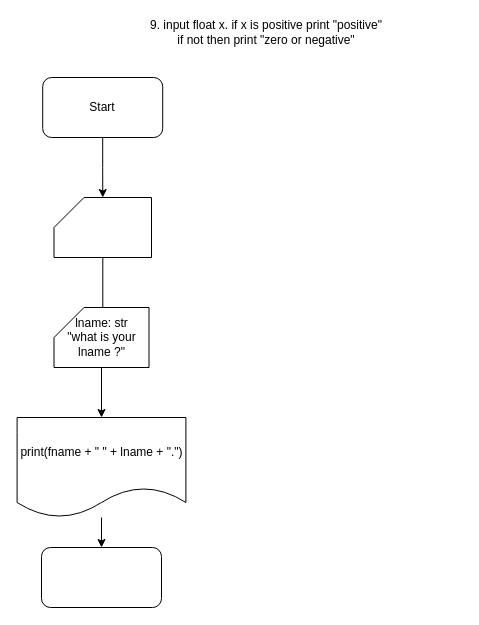
The diagram is 479 pixels wide and 625 high, and some of its shapes have lost their labels. The shapes that lost their labels are listed below. From the top down, each one's centre as x and y in pixels, then its label:
point (102, 227): fname: str "what is your fname ?"
point (101, 577): End
